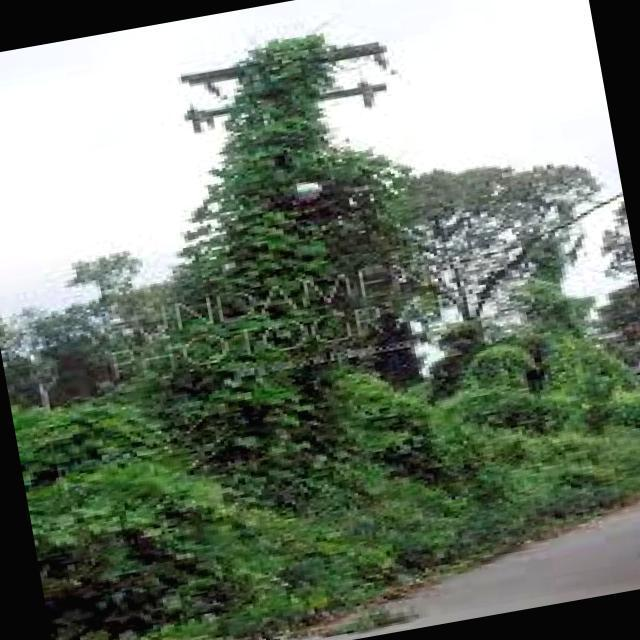critical vegetation: (116, 0, 556, 261)
